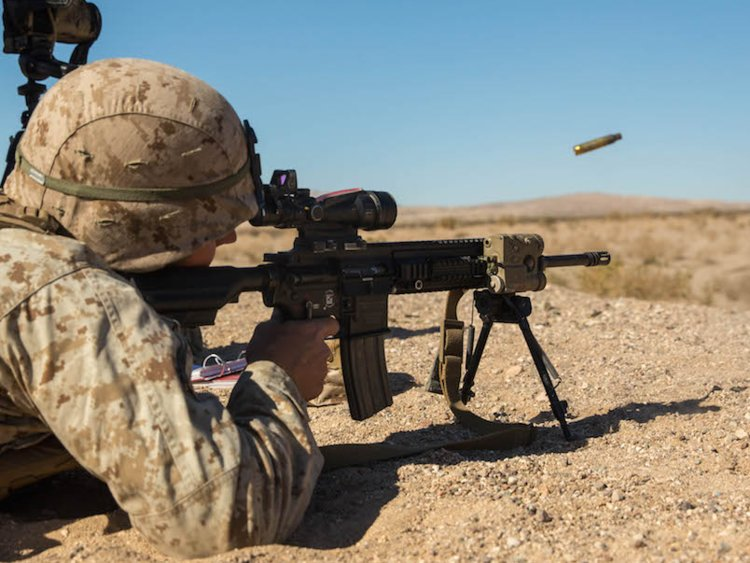Rifle: (113, 165, 616, 438)
